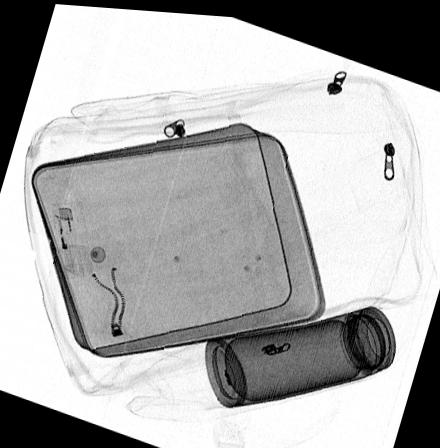Lighter: (53, 205, 85, 272)
